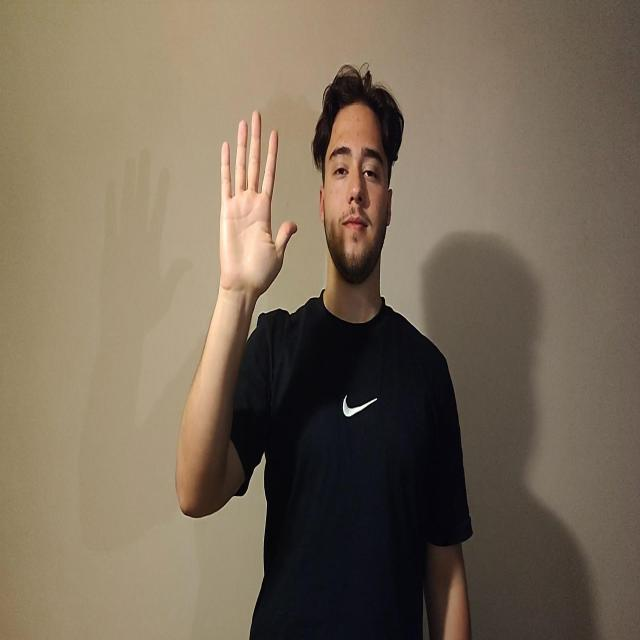hello: (218, 109, 298, 300)
